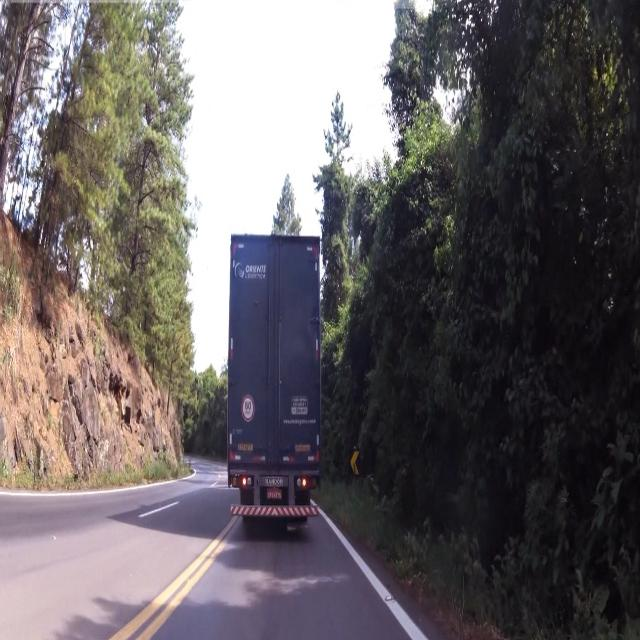Del: (348, 440, 363, 479)
